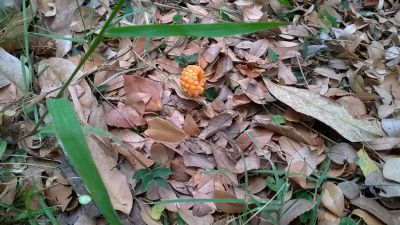eggs: (178, 63, 207, 96)
